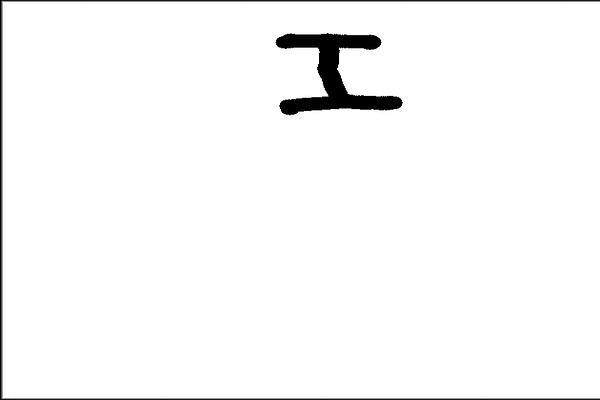i: (267, 29, 410, 119)
